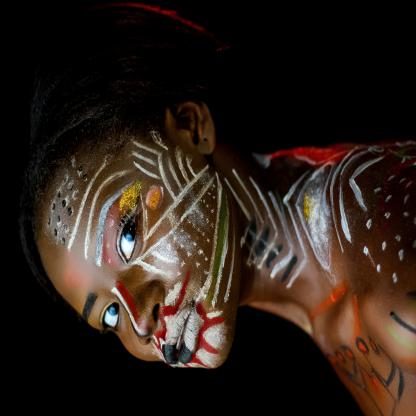Eye: (114, 195, 148, 270), (94, 289, 128, 342)
Mouth: (160, 299, 200, 367)
Nose: (122, 274, 164, 350)
